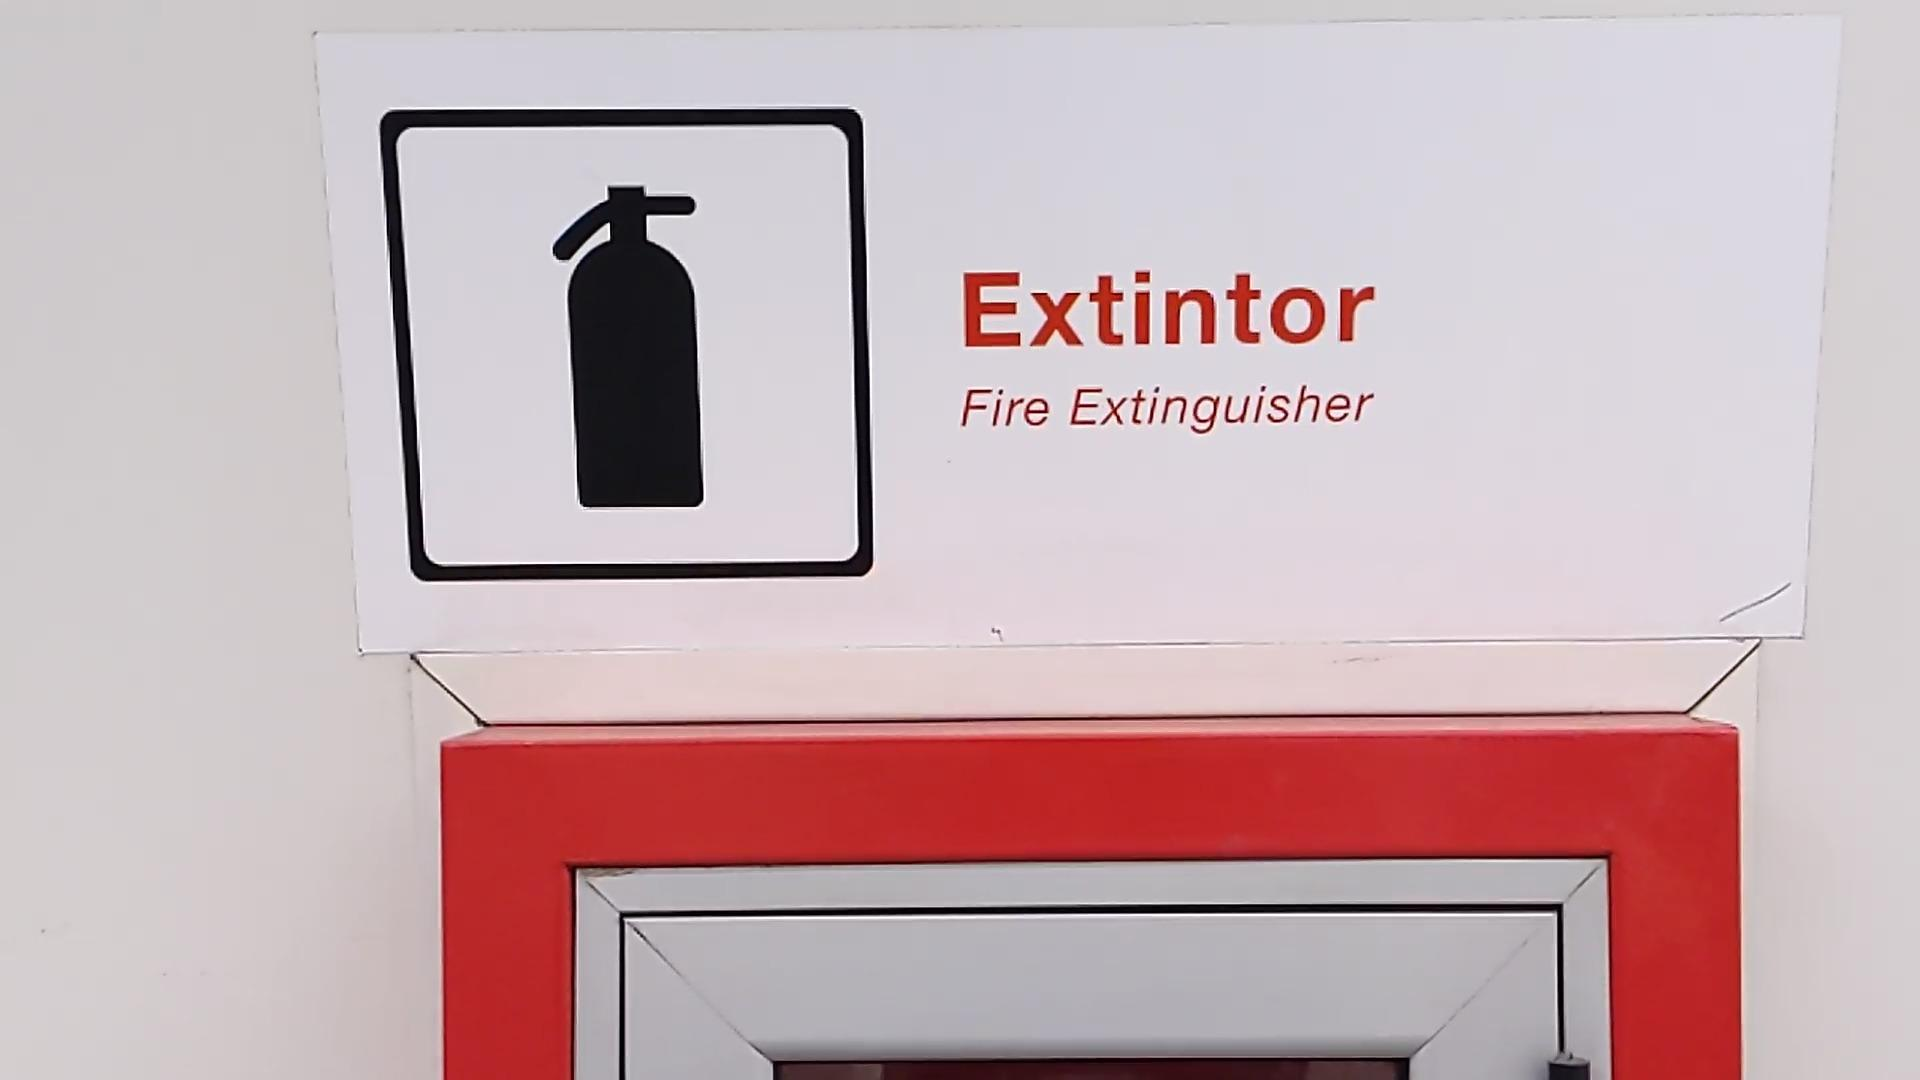extinguisher symbol: (543, 175, 727, 524)
